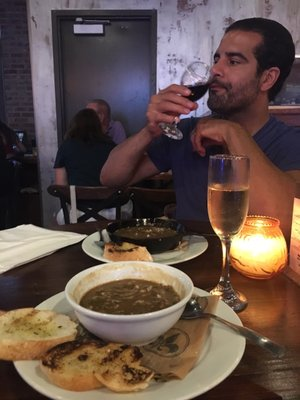soup: (0, 308, 79, 361)
sushi: (64, 260, 194, 347)
